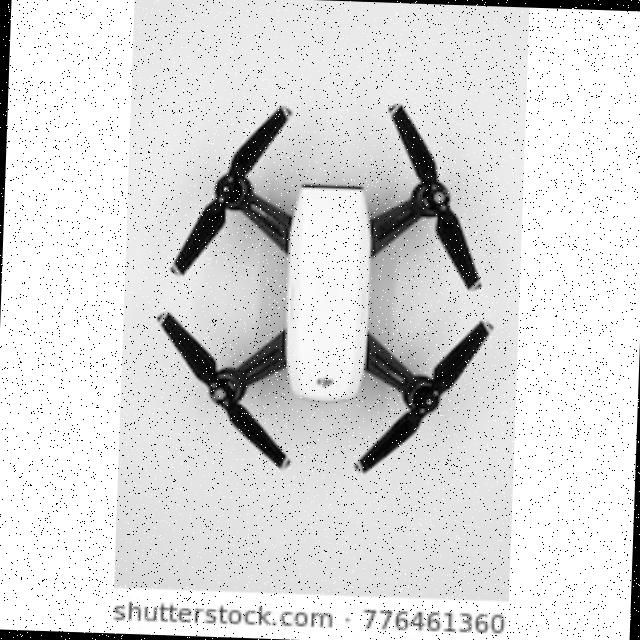Drones: (200, 165, 468, 424)
